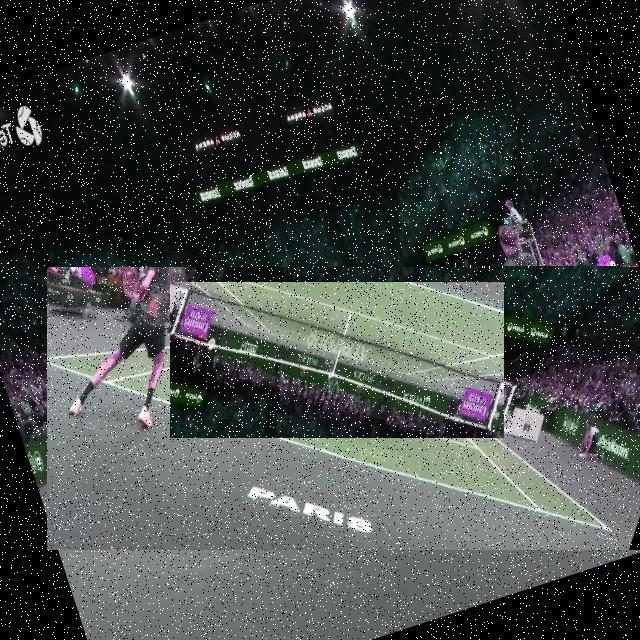court: (47, 267, 640, 550)
net: (170, 282, 504, 438)
player: (470, 207, 622, 443)
